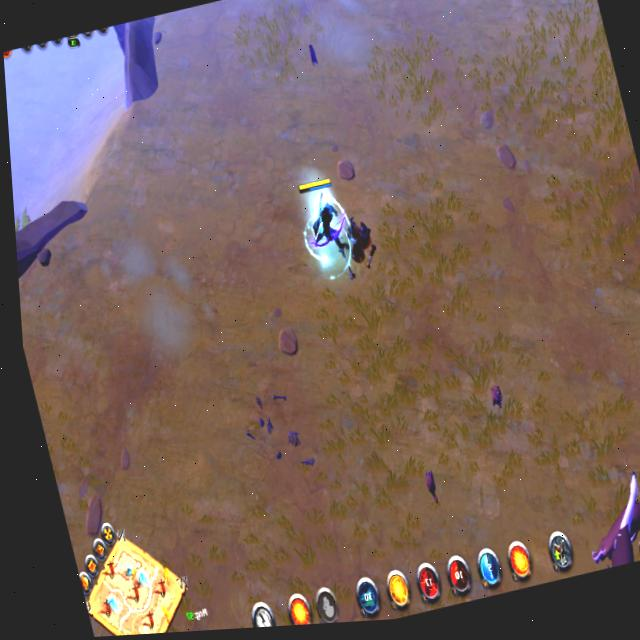ore: (576, 464, 640, 570)
red: (285, 161, 357, 281)
